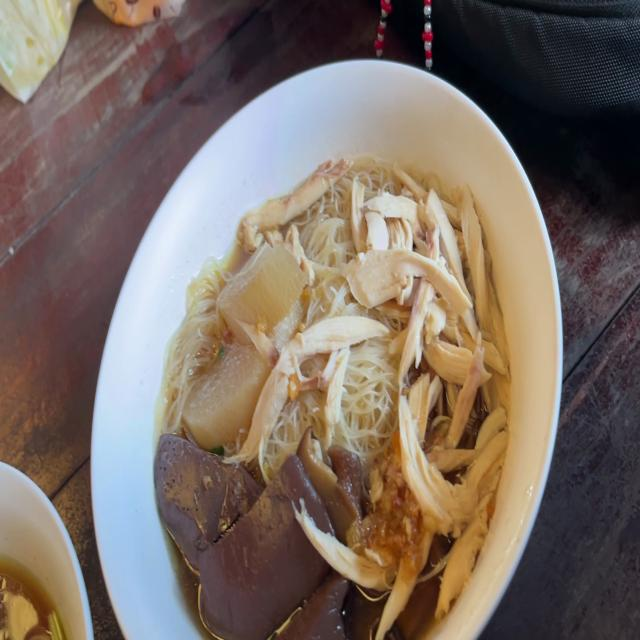boiled_chicken_blood_jelly: (155, 436, 361, 632)
chicken_shredded: (345, 179, 506, 335), (399, 339, 524, 539), (248, 154, 346, 242)
daikon_radish: (185, 250, 301, 436)
noodle: (148, 144, 508, 640), (0, 538, 77, 640)
